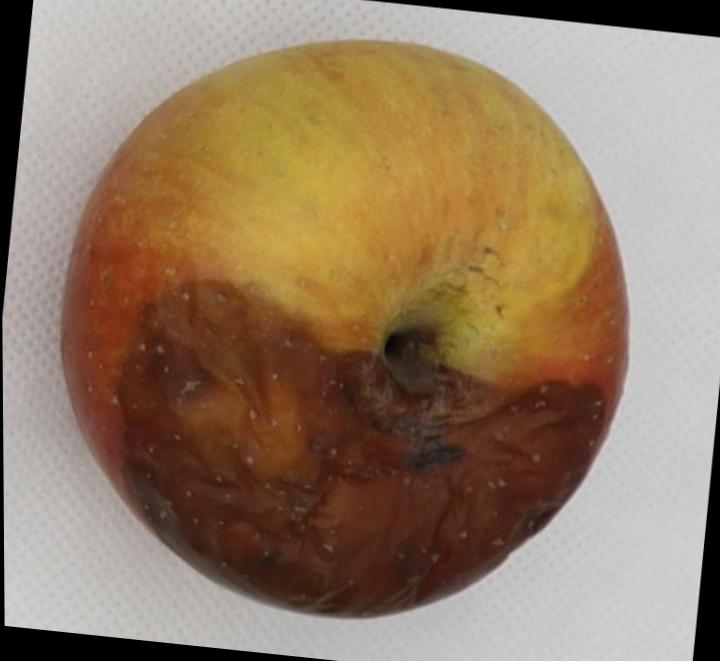apple: (62, 40, 628, 617)
rot_mold_decay: (115, 280, 605, 616)
